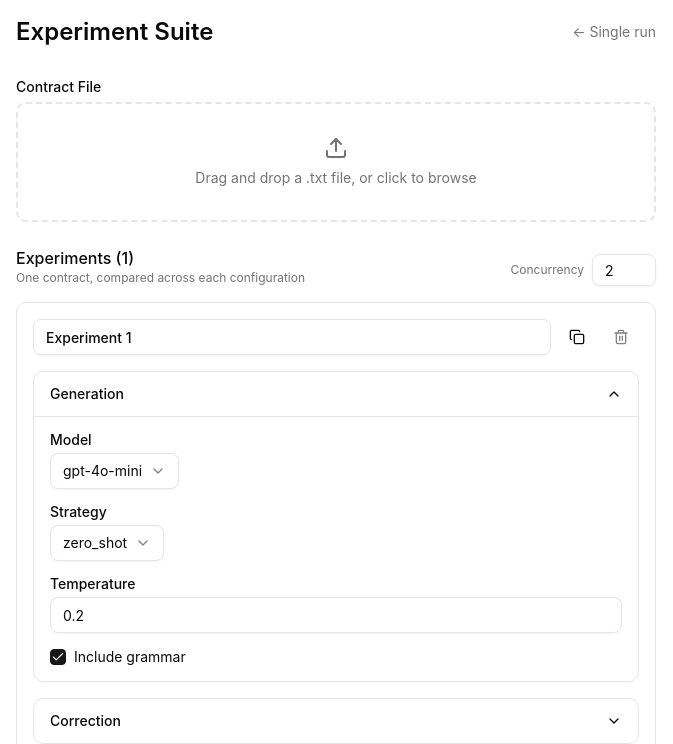
Scenario: ExperimentsPage › duplicates an experiment
The image size is (673, 744).
Expected: the heading "Experiment Suite" is shown, [16,16,213,48]
Click the button titled "Duplicate".
click(577, 337)  # box [559,319,595,355]
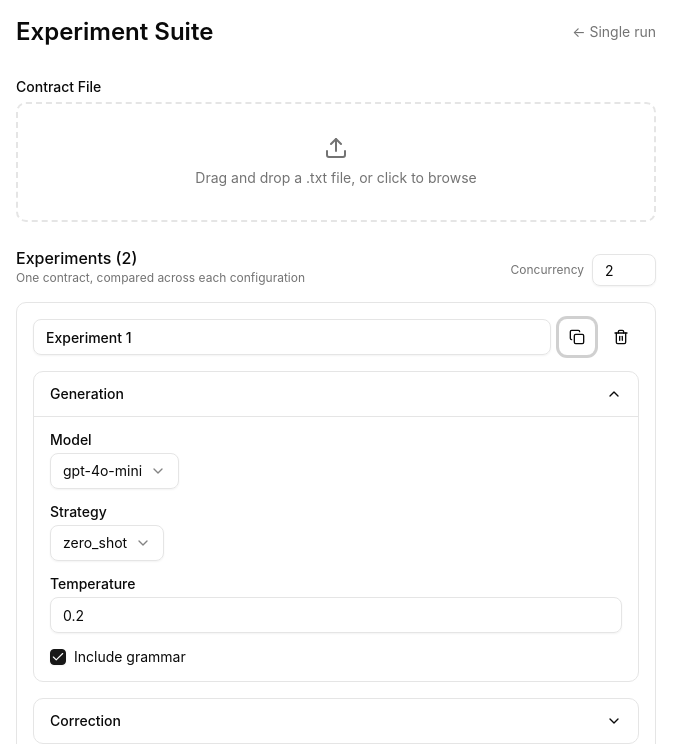
Now the text "Experiments (2)" is shown, box [16,248,137,268]
